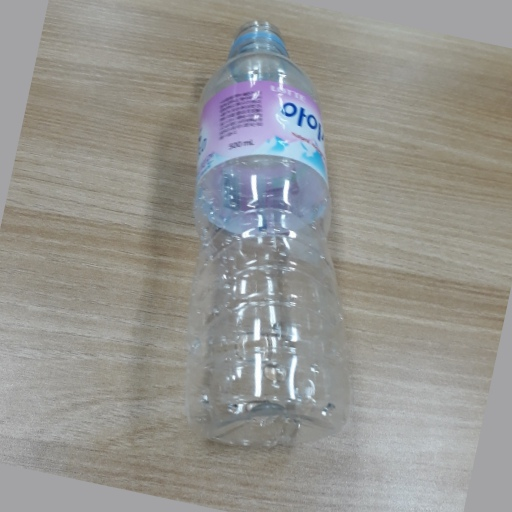Plastic_0: (190, 19, 350, 454)
